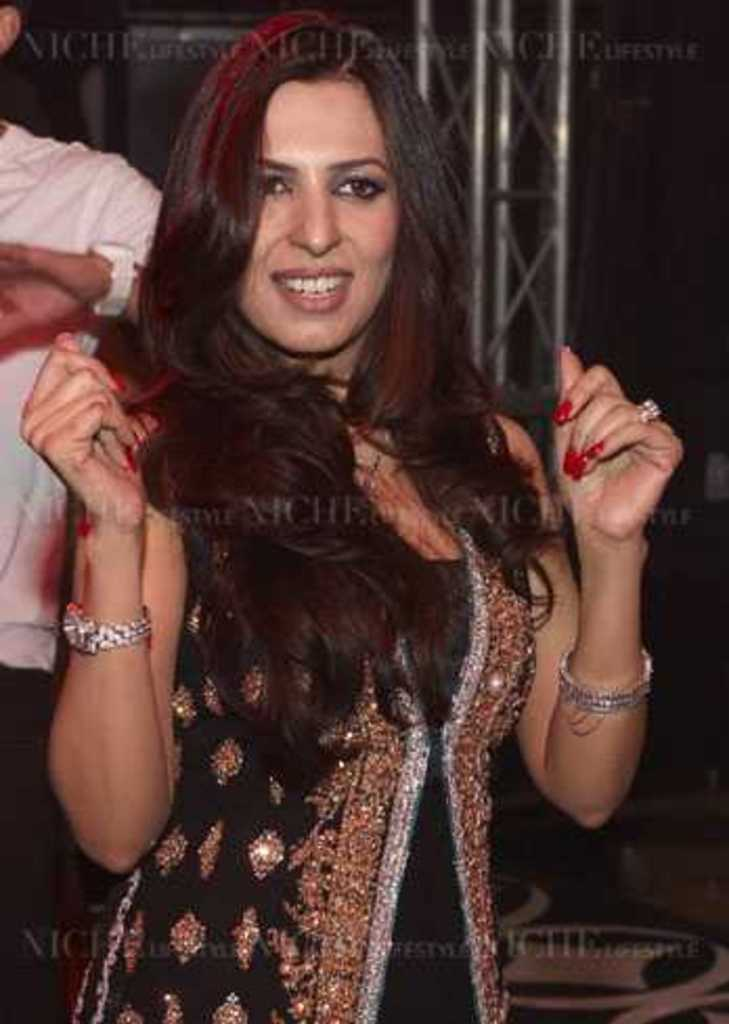Person: (17, 8, 684, 1023), (0, 0, 163, 1023)
